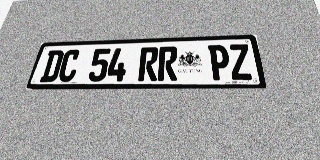4: (106, 48, 128, 81)
5: (88, 48, 111, 82)
C: (56, 49, 81, 82)
D: (39, 50, 65, 82)
P: (208, 45, 231, 80)
R: (138, 47, 159, 81), (158, 46, 177, 81)
Z: (228, 44, 254, 80)
